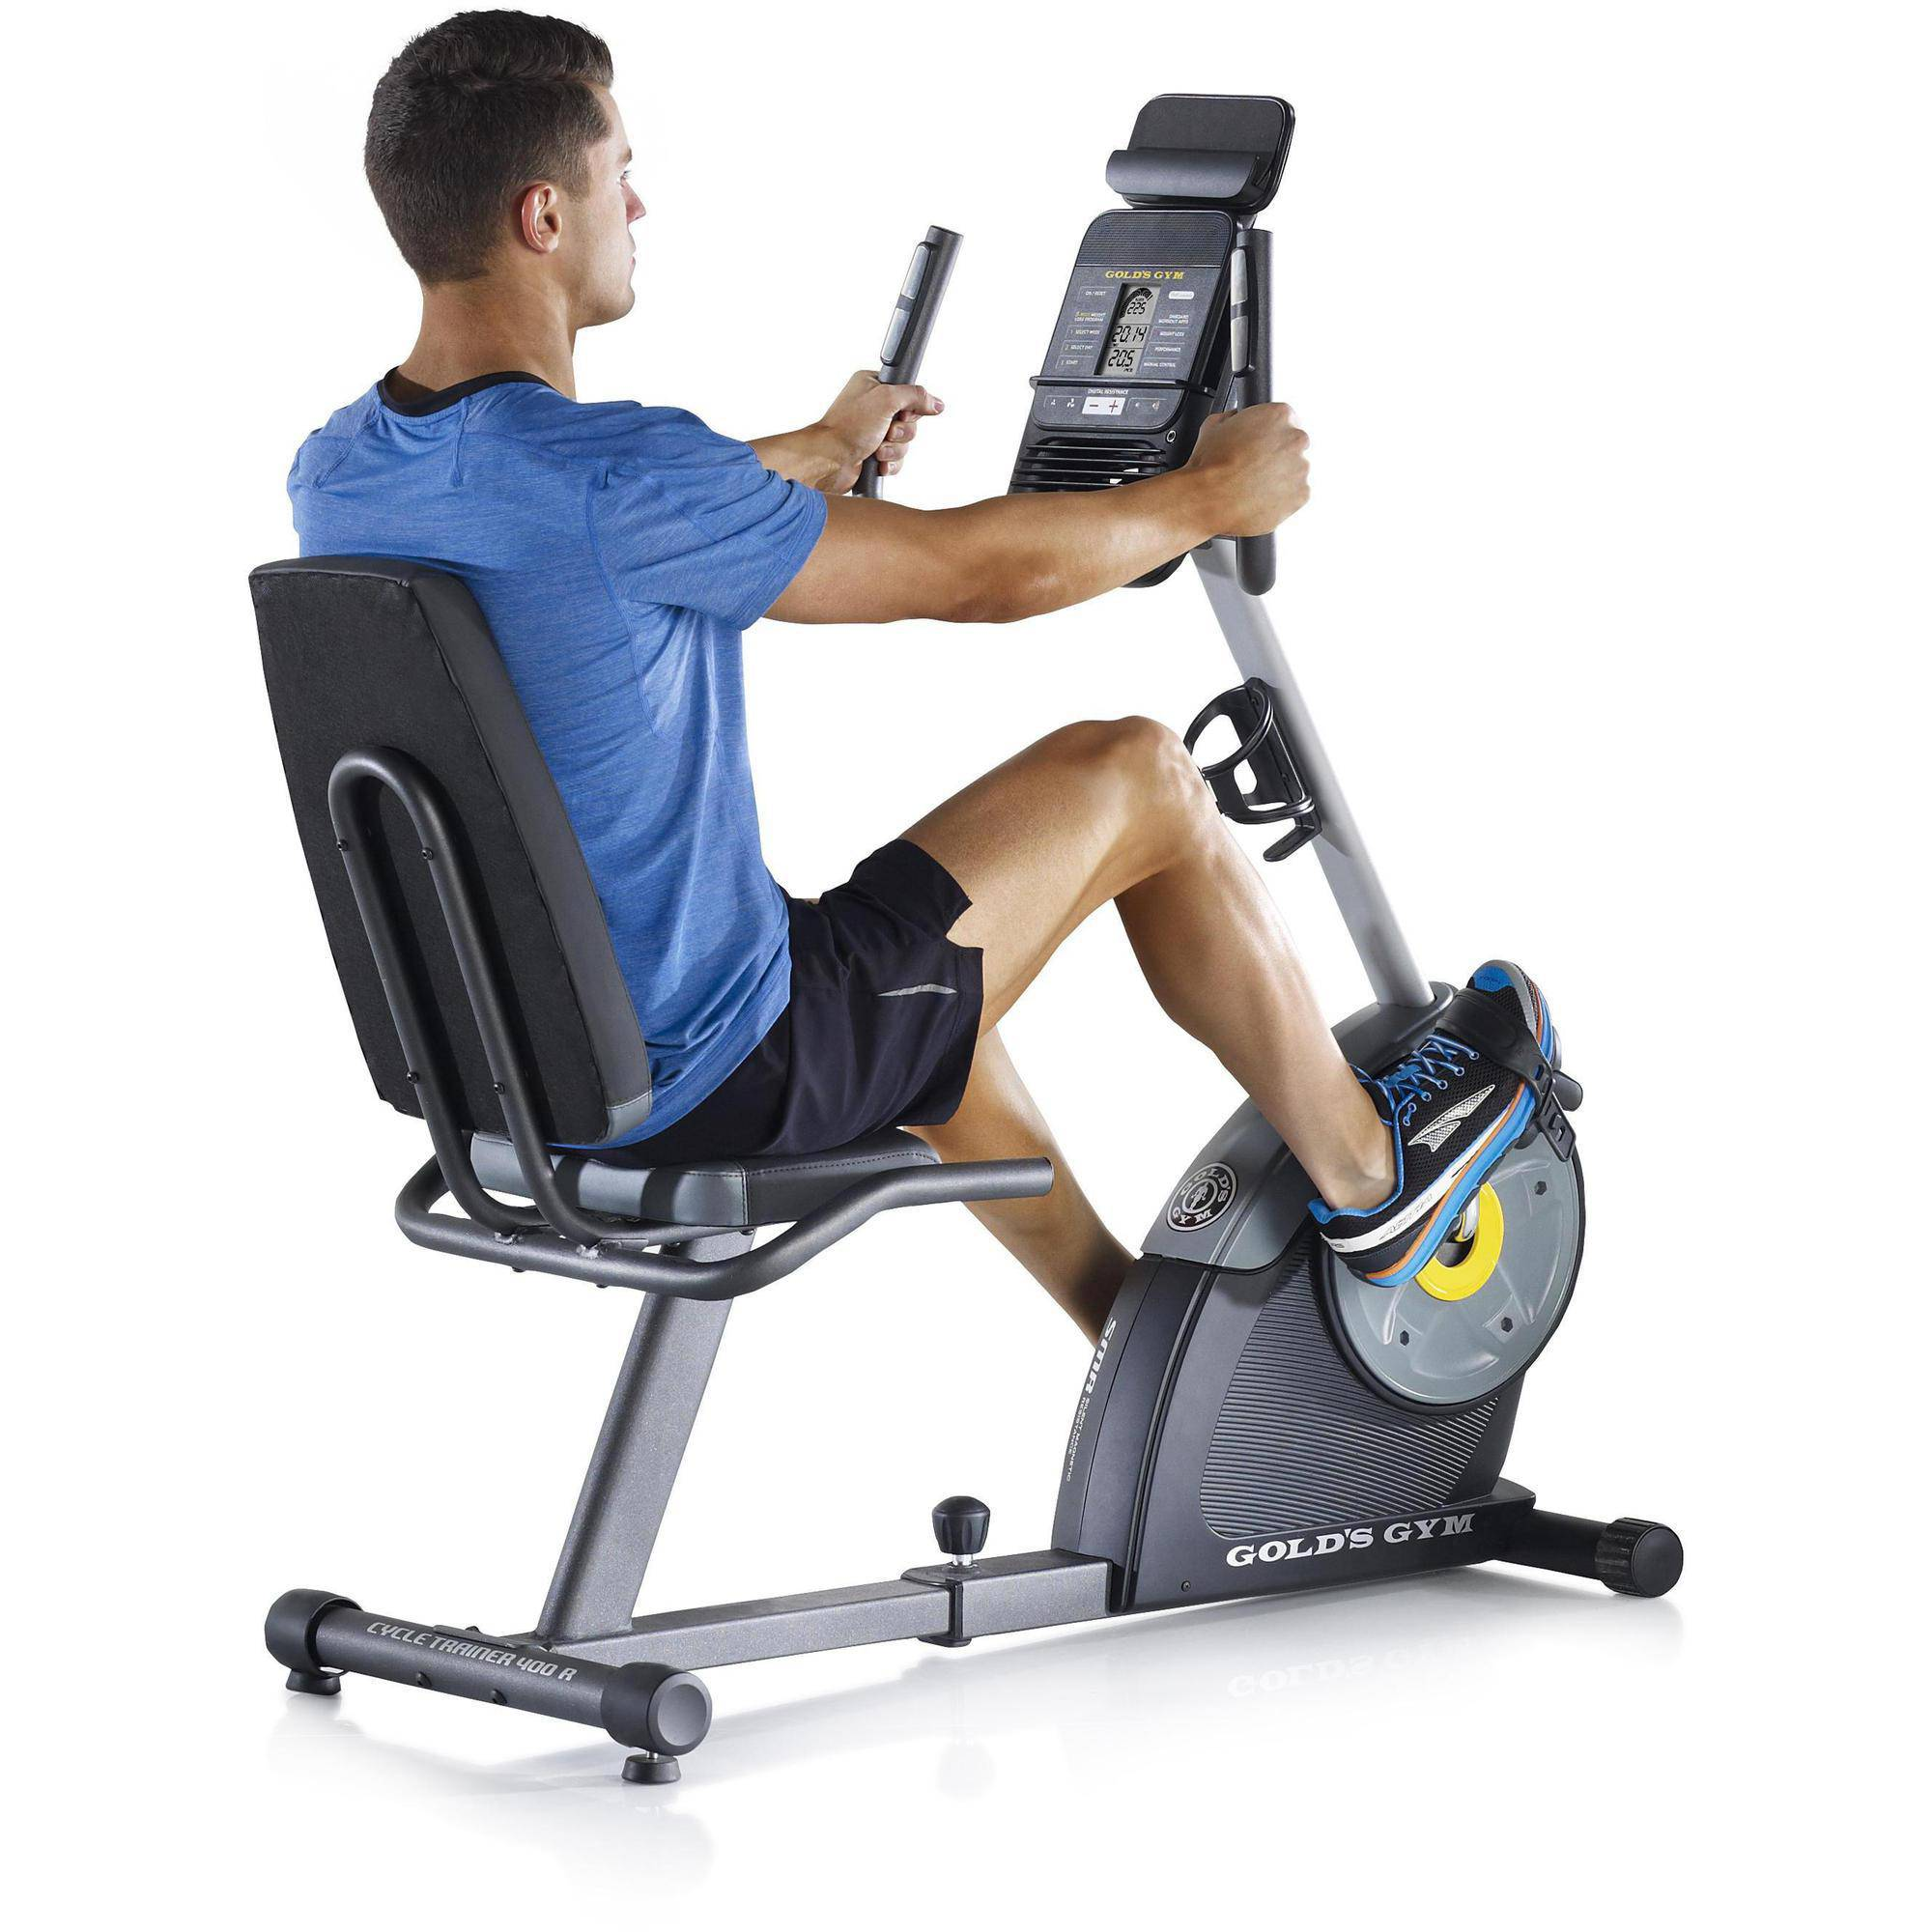gym_bike: (152, 64, 1720, 1803)
